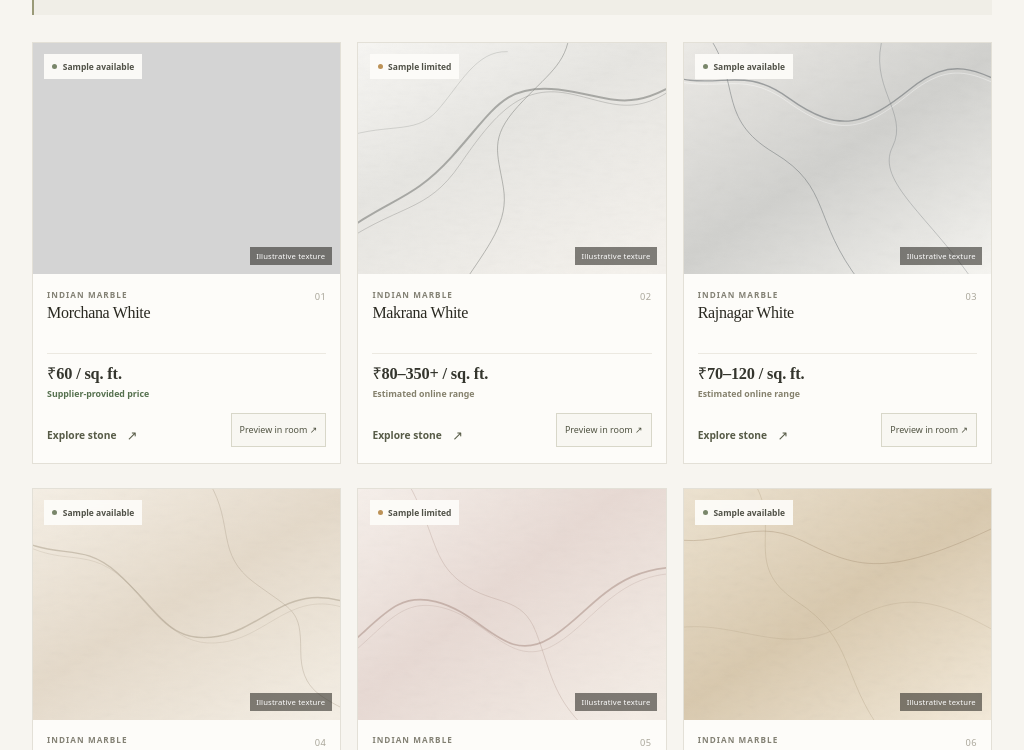
Test: stone discovery dashboard › keeps stones without image URLs selectable and uses a local placeholder texture
(page scrolled)
Expected: the heading "Morchana White" is shown, [47, 304, 150, 322]
What coordinates should you click on to do the following:
click the button with aria-label "Preview Morchana White in room"
I would click on:
 (278, 430)
Its box is [231, 413, 326, 447].
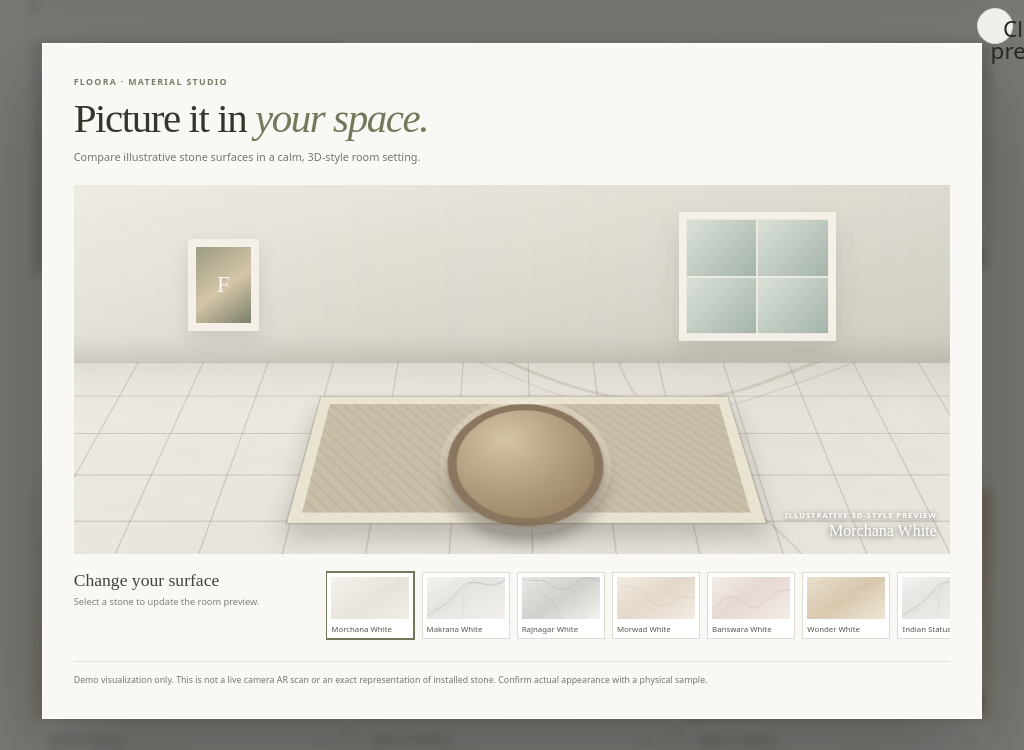
Expected: the button "Morchana White" is shown, [326, 572, 414, 639]
